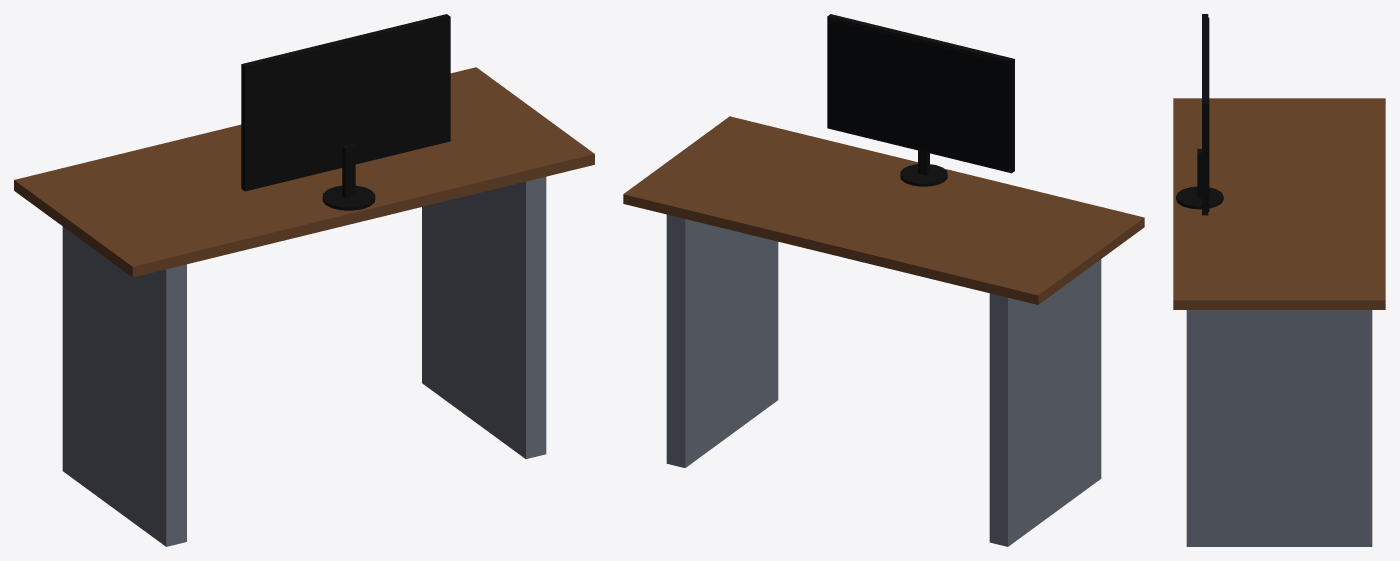
File: office.desk.standing_meeting.glb
3 renders of one model, left to right at view 1: azimuth 30°, elevation 25°; view 2: azimuth 150°, elevation 25°; view 3: azimuth 270°, elevation 25°, orthographic. The views are drawn at different scales.
Visible parts, largest first — view 1: main__steel_painted, main__hardwood, main__plastic_black; view 2: main__steel_painted, main__hardwood, main__screen, main__plastic_black; view 3: main__steel_painted, main__hardwood, main__plastic_black, main__screen.
Boxes of the visible parts, x1=… form: main__steel_painted: x1=62, y1=176, x2=546, y2=546; main__hardwood: x1=14, y1=67, x2=594, y2=277; main__plastic_black: x1=241, y1=14, x2=450, y2=210; main__steel_painted: x1=666, y1=214, x2=1101, y2=546; main__hardwood: x1=623, y1=116, x2=1144, y2=304; main__screen: x1=829, y1=19, x2=1009, y2=170; main__plastic_black: x1=827, y1=14, x2=1014, y2=186; main__steel_painted: x1=1186, y1=310, x2=1372, y2=546; main__hardwood: x1=1173, y1=98, x2=1385, y2=309; main__plastic_black: x1=1176, y1=14, x2=1223, y2=215; main__screen: x1=1208, y1=17, x2=1209, y2=211.
Bounding box in the file's own units: 1.8 × 1.68 × 0.8.
